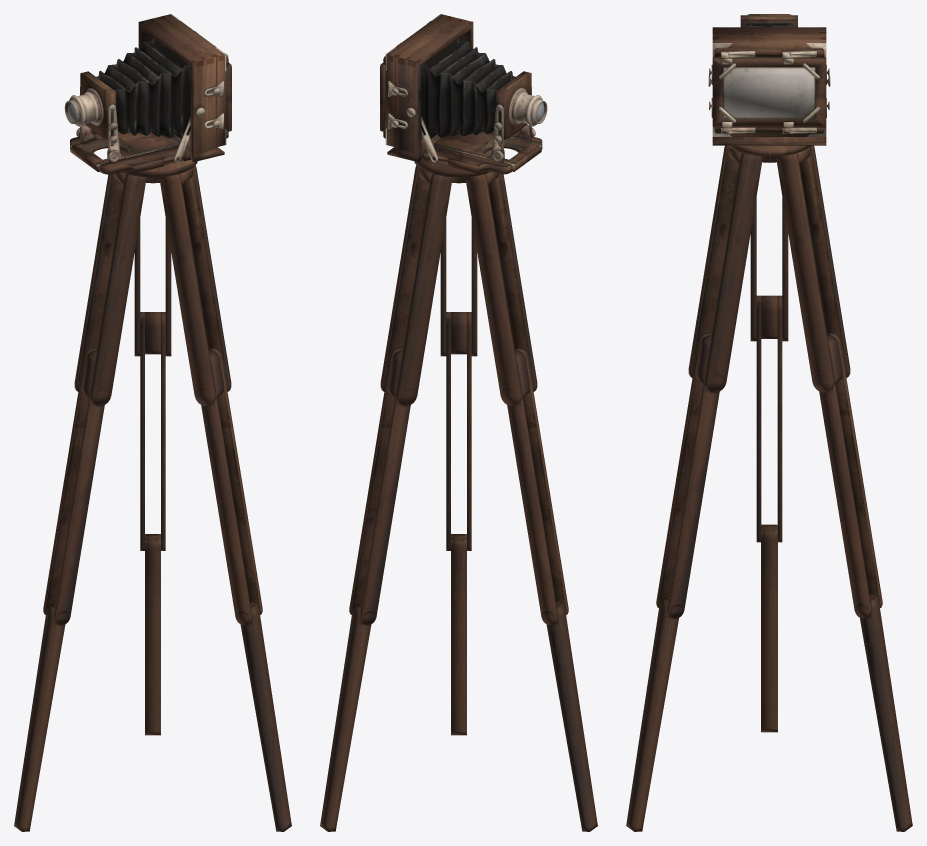
Rendered from optimized_camera.gltf.
The picture shows the model from 3 angles, left to right: view 1: azimuth 30°, elevation 25°; view 2: azimuth 150°, elevation 25°; view 3: azimuth 270°, elevation 25°; orthographic projection. The views are drawn at different scales.
Parts seen in each view (by area): view 1: layer1_lp.007, layer1_lp.005, layer4_lp, layer1_lp.008, layer1_lp.006; view 2: layer1_lp.008, layer1_lp.005, layer4_lp, layer1_lp.007, layer1_lp.006; view 3: layer1_lp.007, layer1_lp.008, layer4_lp, layer1_lp.005, layer1_lp.006.
Part boxes in pixels (x1,y1,x2,y2): layer1_lp.007: (159, 165, 291, 831); layer1_lp.005: (14, 172, 146, 831); layer4_lp: (64, 14, 231, 174); layer1_lp.008: (134, 218, 171, 735); layer1_lp.006: (107, 149, 197, 183); layer1_lp.008: (320, 165, 452, 831); layer1_lp.005: (465, 172, 597, 831); layer4_lp: (380, 14, 547, 174); layer1_lp.007: (440, 218, 477, 735); layer1_lp.006: (414, 149, 504, 183); layer1_lp.007: (626, 145, 762, 831); layer1_lp.008: (776, 145, 912, 831); layer4_lp: (708, 14, 830, 145); layer1_lp.005: (750, 197, 788, 732); layer1_lp.006: (728, 145, 810, 162).
Bounding box in the file's own units: 0.3671 × 1.27 × 0.4239.
2 materials, 2 textured.
